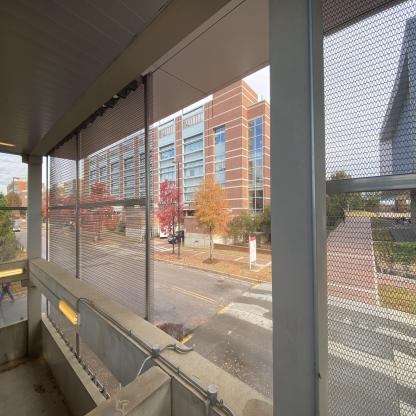EB-1: (75, 124, 278, 239)
